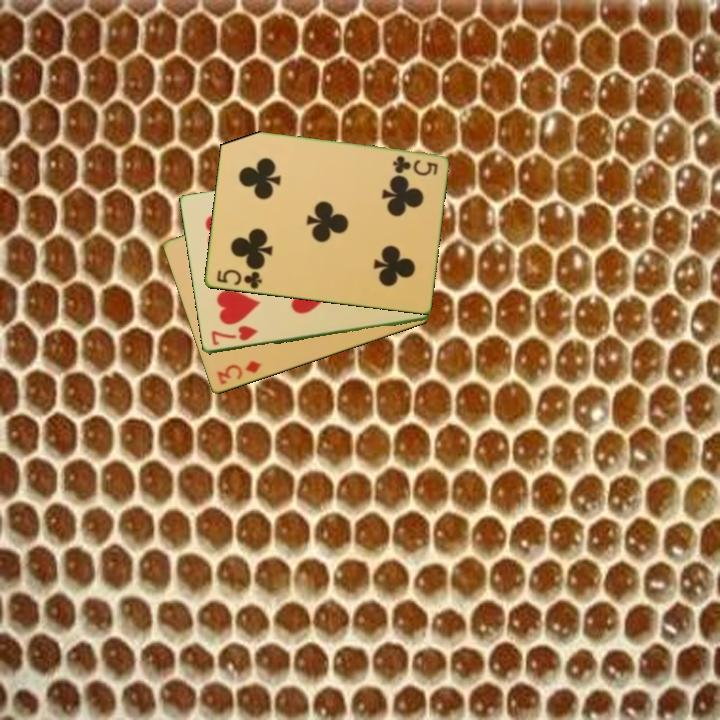3d: (213, 357, 264, 388)
5c: (213, 266, 264, 292), (389, 152, 440, 178)
7h: (207, 322, 261, 349)
